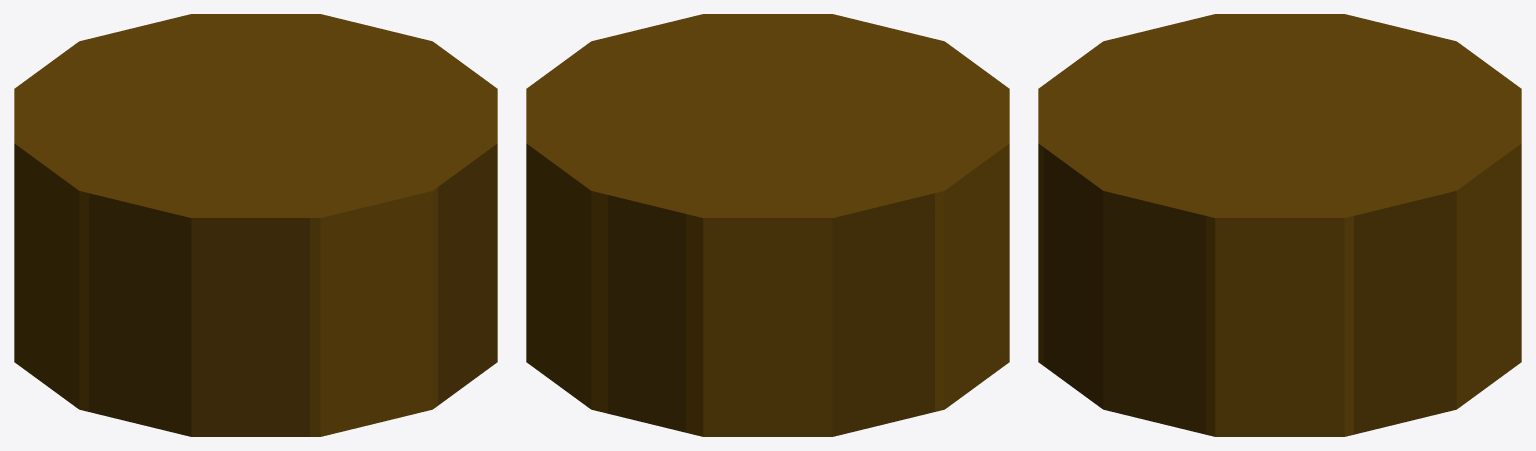
The model's file is tree_stump.gltf.
The picture shows the model from 3 angles, left to right: view 1: azimuth 30°, elevation 25°; view 2: azimuth 150°, elevation 25°; view 3: azimuth 270°, elevation 25°; orthographic projection.
Visible parts, largest first — view 1: cylinder; view 2: cylinder; view 3: cylinder.
Part boxes in pixels (<box>): cylinder: <box>14,14,497,436</box>; cylinder: <box>526,14,1009,436</box>; cylinder: <box>1038,14,1521,436</box>.
Bounding box in the file's own units: 10 × 5 × 10.
1 material, 1 textured.
